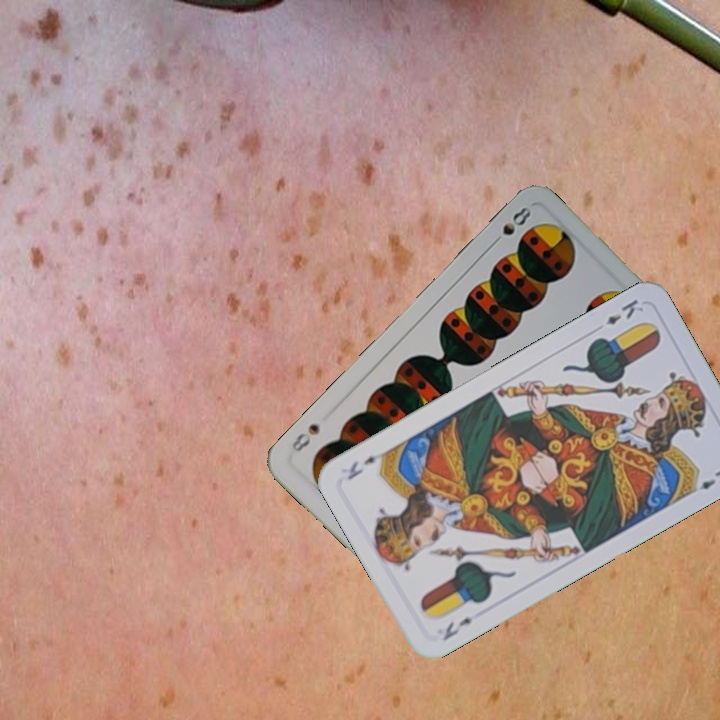EK: (601, 295, 647, 328), (438, 613, 475, 644)
S8: (486, 202, 534, 249)
